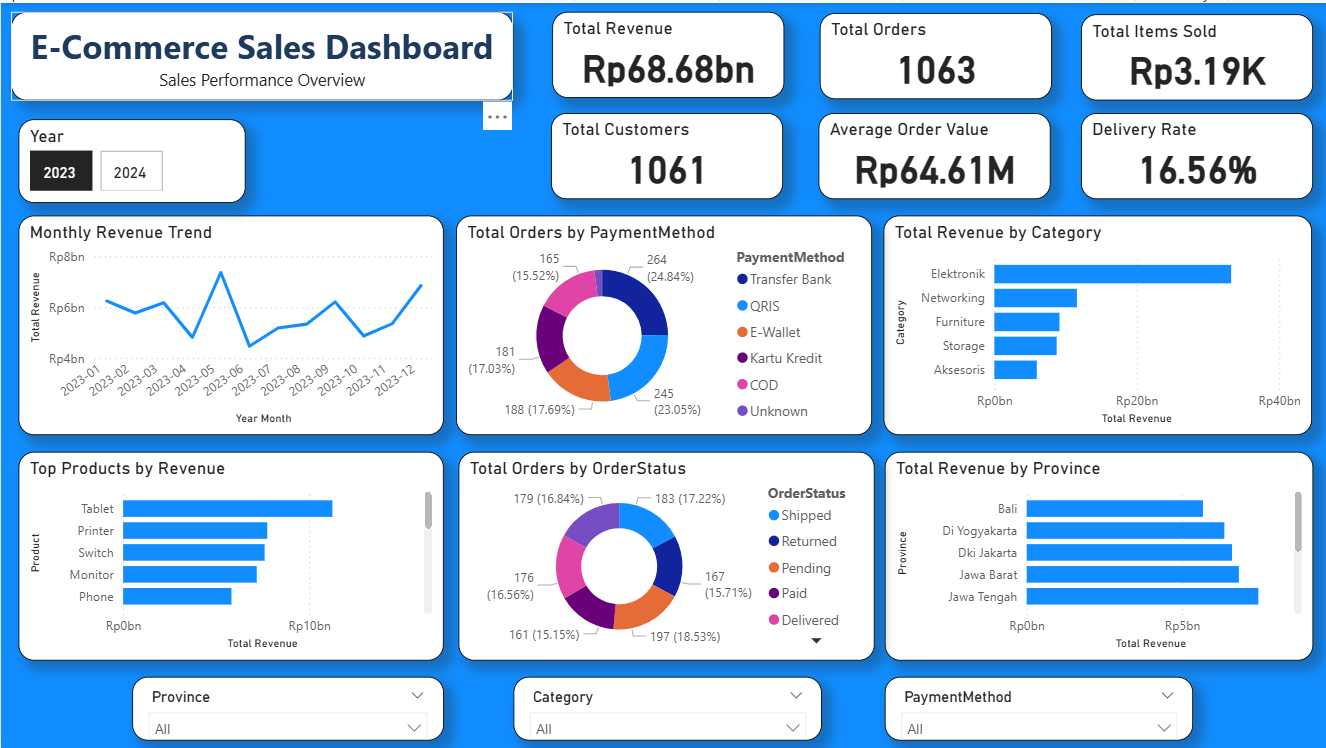

Layout of this report page (visuals, bound fields, positions):
{"tool":"powerbi","page":{"name":"ESD","canvas":[1280,720],"ordinal":0},"visuals":[{"type":"textbox","box":[9.7,8.4,485,85.7],"z":0},{"type":"card","title":"Total Revenue","fields":{"Values":["Sales.Total Revenue"]},"box":[531.8,8.7,224.4,83.2],"z":1000},{"type":"card","title":"Total Orders","fields":{"Values":["Sales.Total Orders"]},"box":[790,9.9,224.4,83.2],"z":2000},{"type":"card","title":"Total Items Sold","fields":{"Values":["Sales.Total Items Sold"]},"box":[1042.1,11.1,224.4,83.2],"z":3000},{"type":"card","title":"Total Customers","fields":{"Values":["Sales.Total Customers"]},"box":[531.3,105.9,224.4,83.2],"z":4000},{"type":"card","title":"Average Order Value","fields":{"Values":["Sales.Average Order Value"]},"box":[789.5,105.9,224.4,83.2],"z":5000},{"type":"lineChart","title":"Monthly Revenue Trend","fields":{"Y":["Sales.Total Revenue"],"Category":["Dim_Date.Year Month"]},"box":[16.9,205.1,410.2,212.3],"z":6000},{"type":"clusteredBarChart","fields":{"Category":["Sales.Category"],"Y":["Sales.Total Revenue"]},"box":[851.7,205.1,413.8,212.3],"z":7000},{"type":"clusteredBarChart","title":"Top Products by Revenue","fields":{"Category":["Sales.Product"],"Y":["Sales.Total Revenue"]},"box":[16.9,433.1,410.2,201.5],"z":8000},{"type":"clusteredBarChart","fields":{"Category":["Sales.Province"],"Y":["Sales.Total Revenue"]},"box":[853,433.1,413.8,201.5],"z":9000},{"type":"donutChart","fields":{"Category":["Sales.PaymentMethod"],"Y":["Sales.Total Orders"]},"box":[439.1,205.1,401.7,212.3],"z":10000},{"type":"donutChart","fields":{"Category":["Sales.OrderStatus"],"Y":["Sales.Total Orders"]},"box":[441.6,433.1,401.7,201.5],"z":11000},{"type":"card","title":"Delivery Rate","fields":{"Values":["Sales.Delivery Rate"]},"box":[1042.1,106.4,224.4,83.2],"z":12000},{"type":"advancedSlicerVisual","fields":{"Values":["Dim_Date.Year"]},"box":[16.9,112.2,219.6,80.8],"z":13000},{"type":"slicer","fields":{"Values":["Sales.Province"]},"box":[126.7,650.3,300.4,61.5],"z":14000},{"type":"slicer","fields":{"Values":["Sales.Category"]},"box":[494.6,650.3,298,61.5],"z":15000},{"type":"slicer","fields":{"Values":["Sales.PaymentMethod"]},"box":[853,650.3,298,61.5],"z":16000}]}

Visuals, with their boxes in screenshot pixels (x1, y1, x2, y2), scaled from the page's 1280x720 canvas onto the 1326x748 screenshot:
textbox: (10, 9, 512, 98)
"Total Revenue" card: (551, 9, 783, 95)
"Total Orders" card: (818, 10, 1051, 97)
"Total Items Sold" card: (1080, 12, 1312, 98)
"Total Customers" card: (550, 110, 783, 196)
"Average Order Value" card: (818, 110, 1050, 196)
"Monthly Revenue Trend" lineChart: (18, 213, 442, 434)
clusteredBarChart - Sales.Category x Sales.Total Revenue: (882, 213, 1311, 434)
"Top Products by Revenue" clusteredBarChart: (18, 450, 442, 659)
clusteredBarChart - Sales.Province x Sales.Total Revenue: (884, 450, 1312, 659)
donutChart - Sales.PaymentMethod x Sales.Total Orders: (455, 213, 871, 434)
donutChart - Sales.OrderStatus x Sales.Total Orders: (457, 450, 874, 659)
"Delivery Rate" card: (1080, 111, 1312, 197)
advancedSlicerVisual - Dim_Date.Year: (18, 117, 245, 201)
slicer - Sales.Province: (131, 676, 442, 739)
slicer - Sales.Category: (512, 676, 821, 739)
slicer - Sales.PaymentMethod: (884, 676, 1192, 739)
